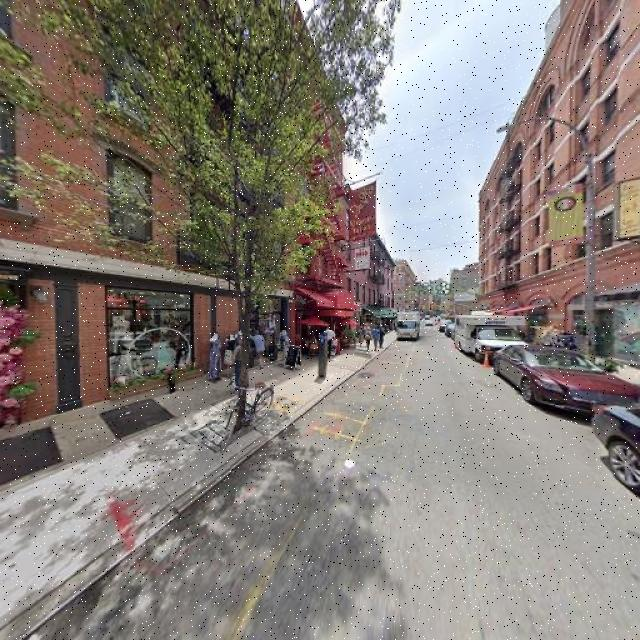Building: (80, 1, 290, 407), (483, 1, 640, 369), (1, 1, 74, 429), (293, 1, 342, 353)
